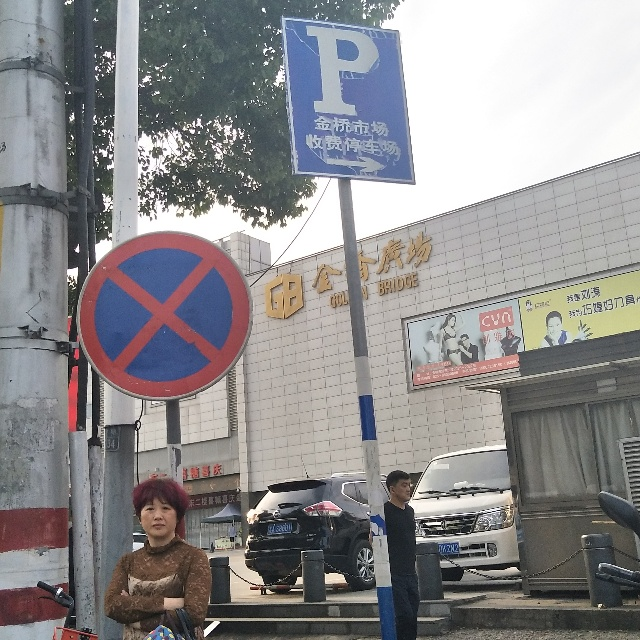stop: (77, 231, 252, 402)
